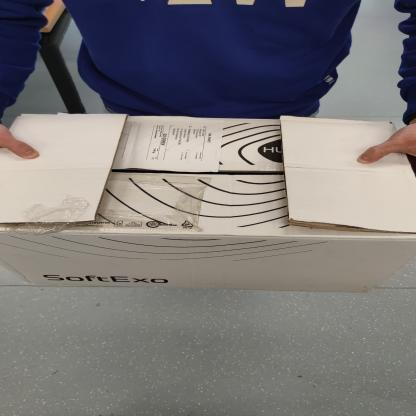-: (4, 104, 412, 305)
